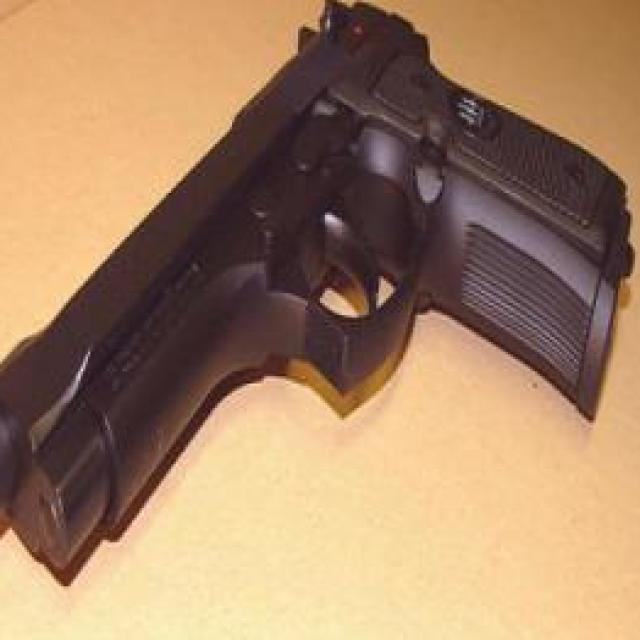pistol: (0, 0, 635, 581)
